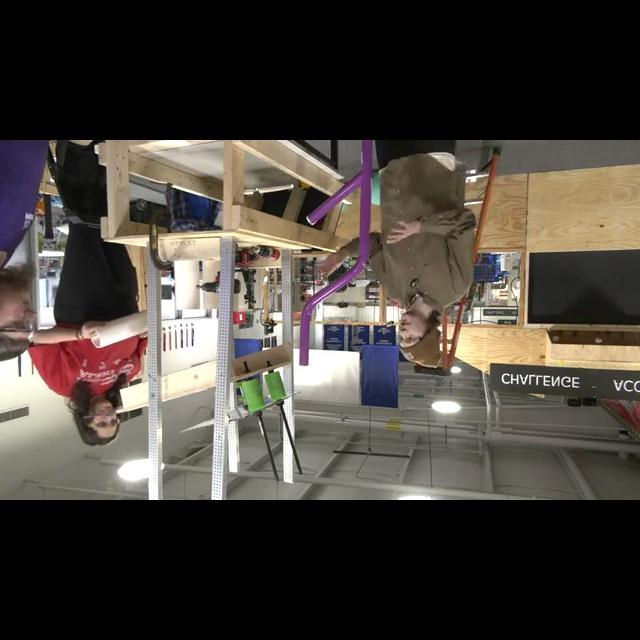CORAL: (89, 310, 148, 350), (175, 262, 199, 310), (203, 261, 219, 309)
